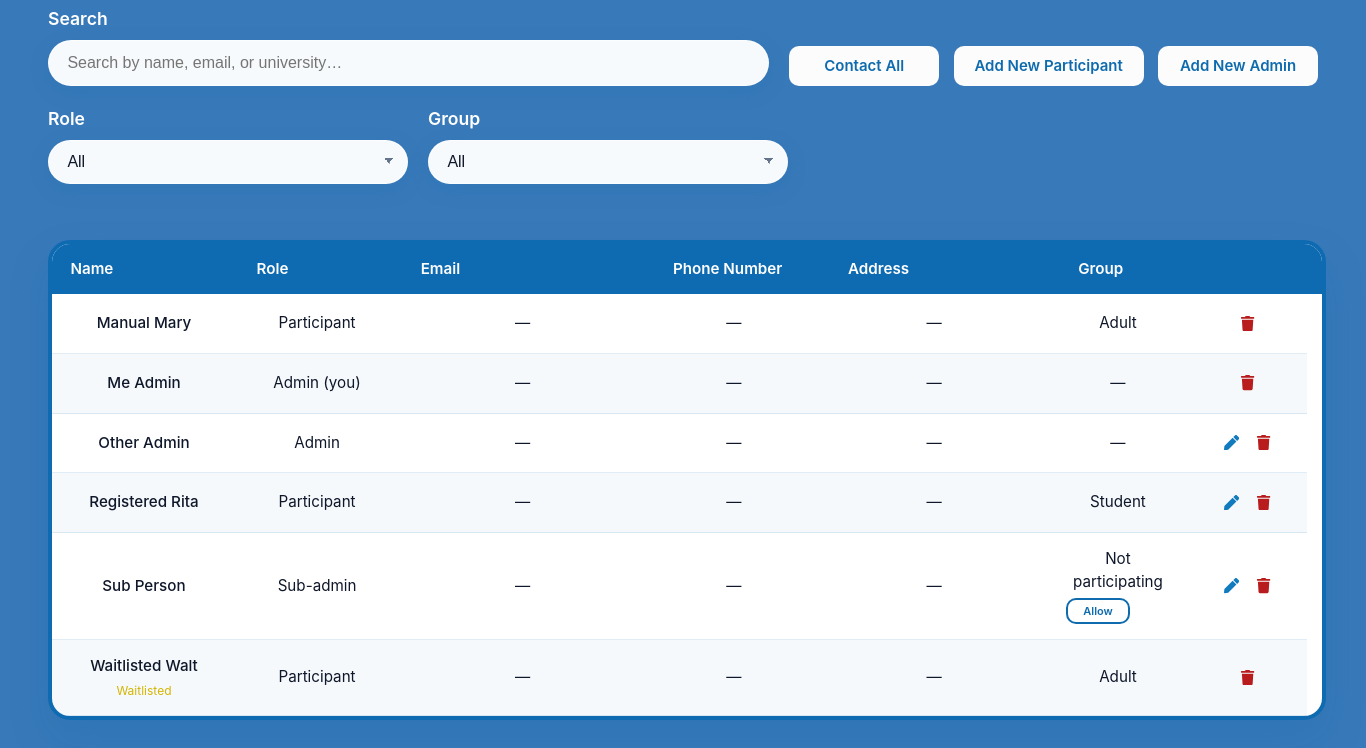
Test case: Sub-admin participation toggle › goes through the setSubadminParticipantOptIn callable
The width and height of the screenshot is (1366, 748).
(page scrolled)
Click the button "Allow".
click(1098, 611)  # box [1066, 598, 1130, 624]
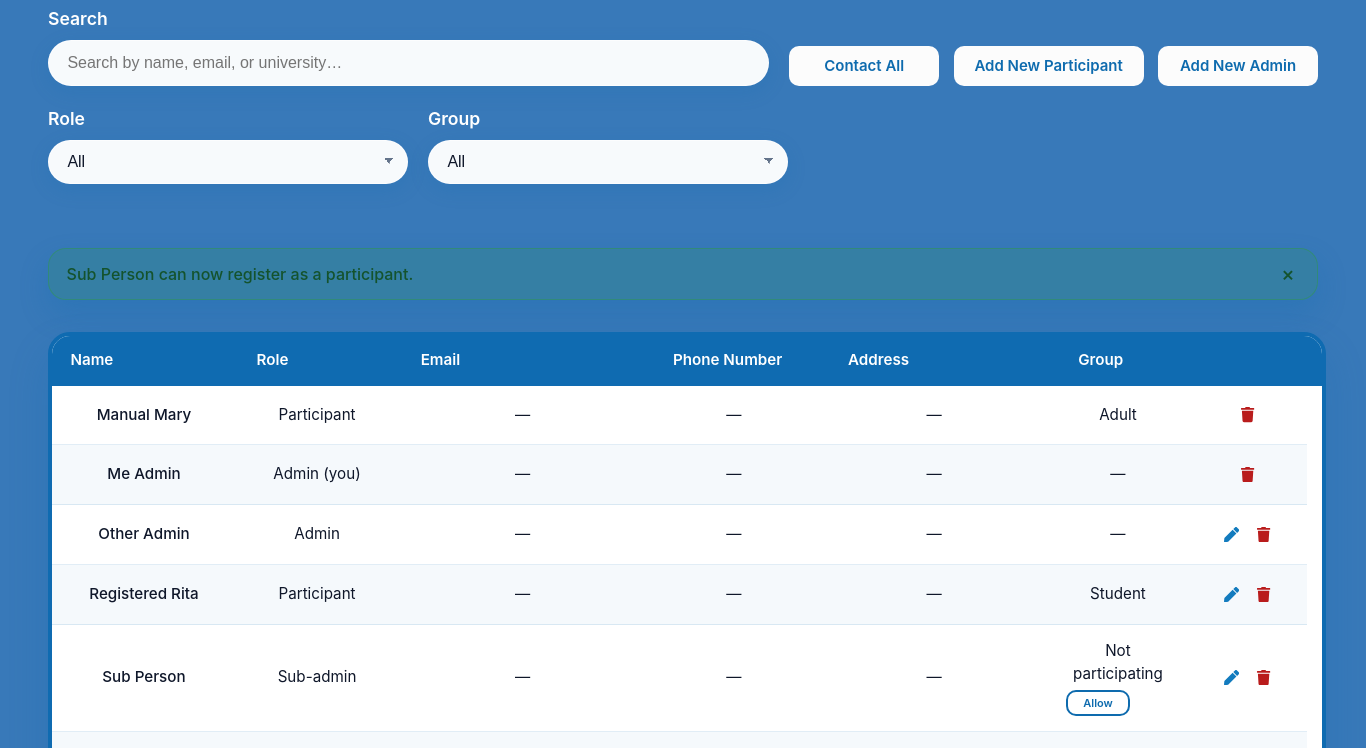
Result: the text "Sub Person can now register as a participant." is shown at [67, 262, 413, 286]
